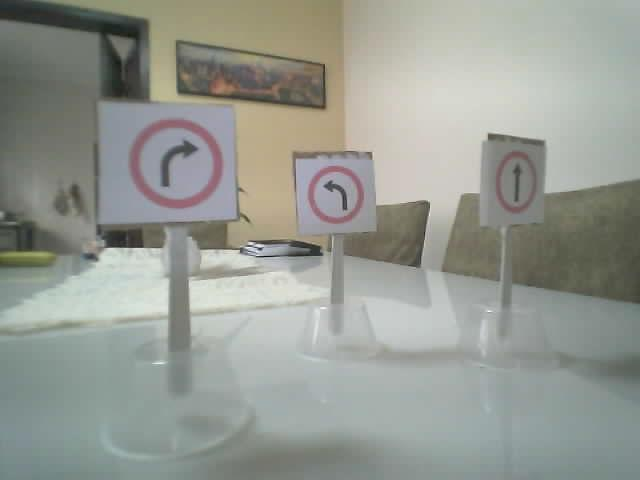R-25a_esquerda: (306, 165, 363, 224)
R-25b_direita: (128, 117, 224, 210)
R-26_frente: (495, 151, 536, 212)
